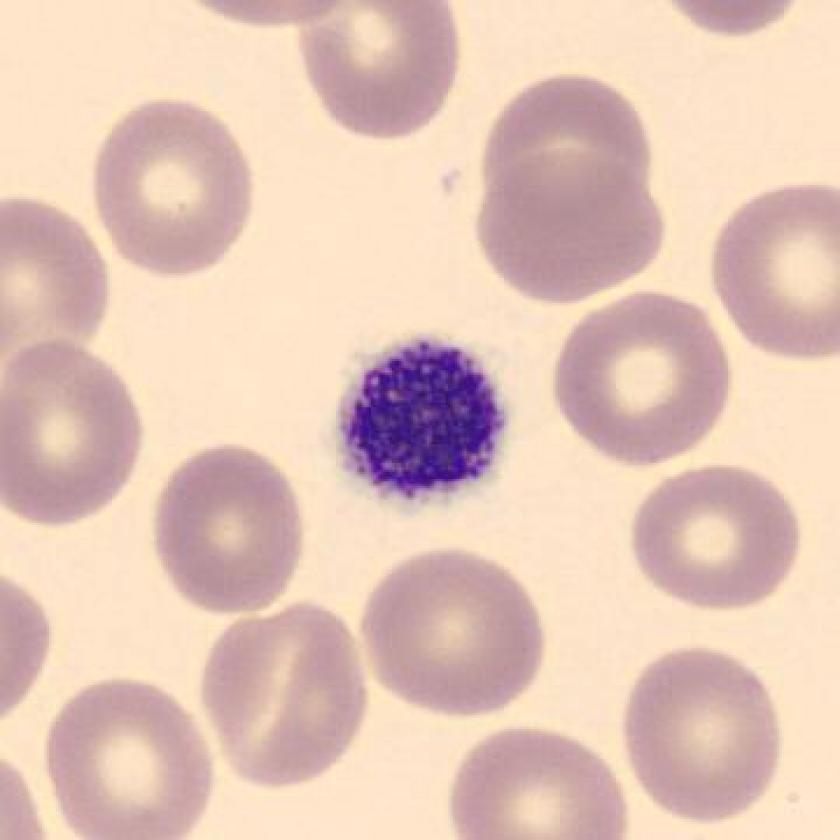platelets: (330, 328, 514, 513)
